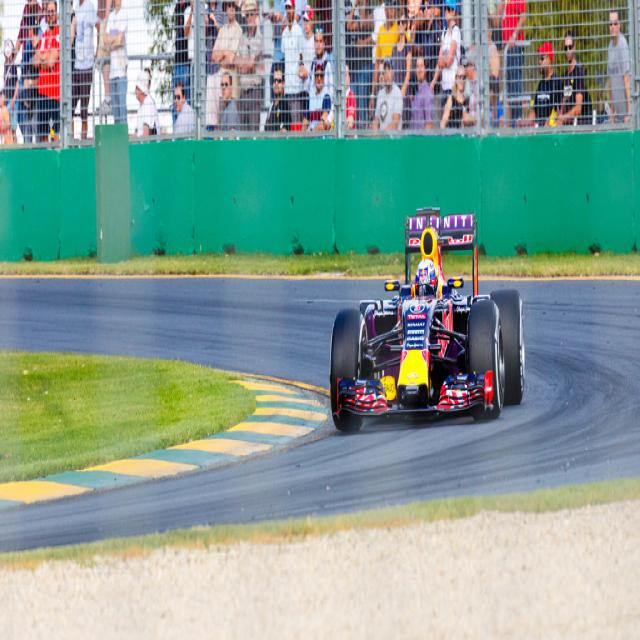car: (330, 211, 521, 430)
